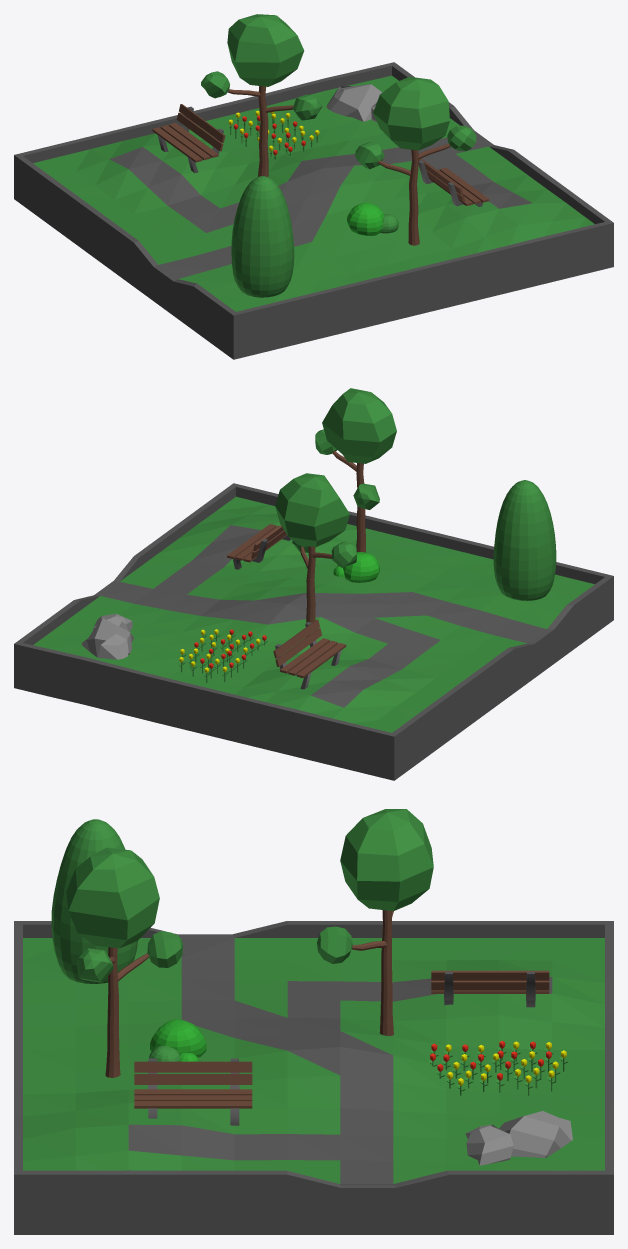
The model's file is Test park Small.fbx.
The picture shows the model from 3 angles, top to bottom: view 1: azimuth 30°, elevation 25°; view 2: azimuth 150°, elevation 25°; view 3: azimuth 270°, elevation 25°; orthographic projection. The views are drawn at different scales.
Visible parts, largest first — view 1: pSphere122; view 2: pSphere122; view 3: pSphere122.
Boxes of the visible parts, <box> form: pSphere122: <box>14,14,613,359</box>; pSphere122: <box>14,388,613,780</box>; pSphere122: <box>14,809,613,1234</box>.
Bounding box in the file's own units: 96 × 49 × 96.
